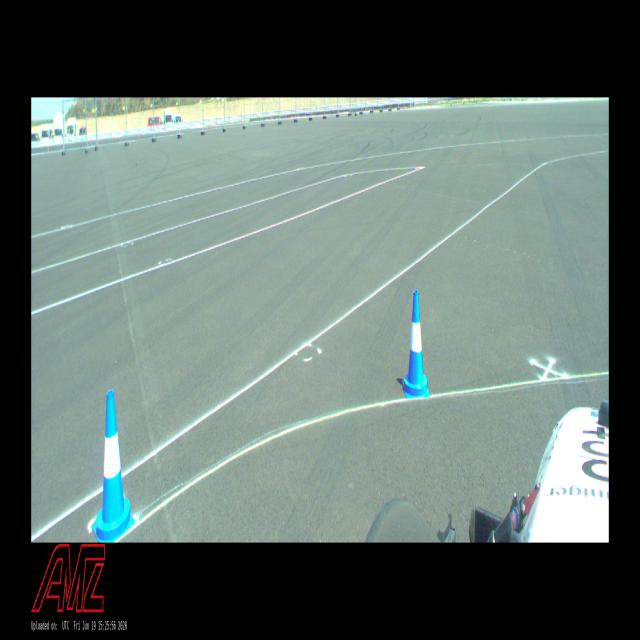blue_cone: (91, 389, 135, 542), (402, 290, 430, 399)
